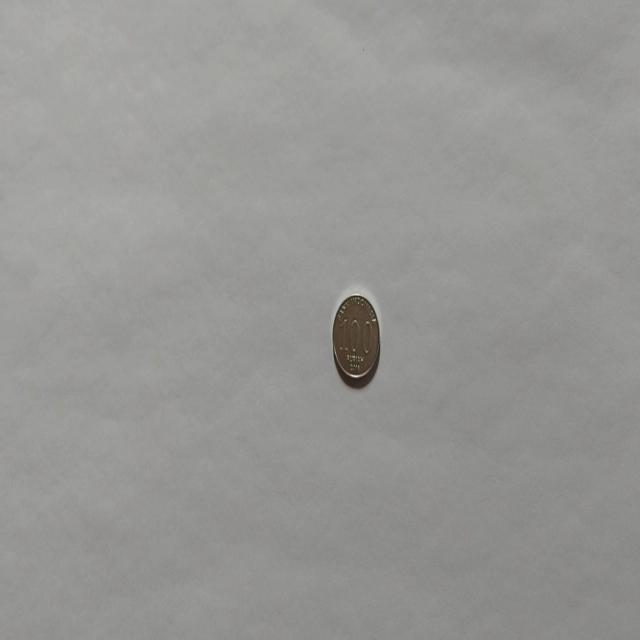seratus rupiah: (331, 292, 381, 386)
